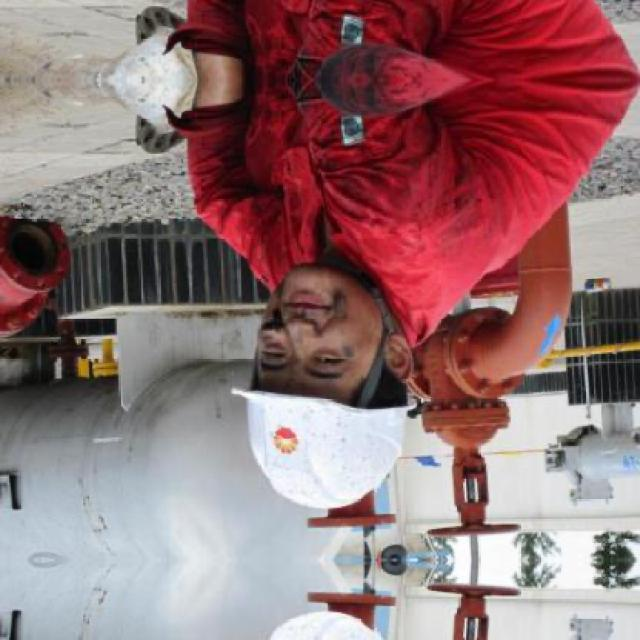con casco: (228, 222, 442, 497)
